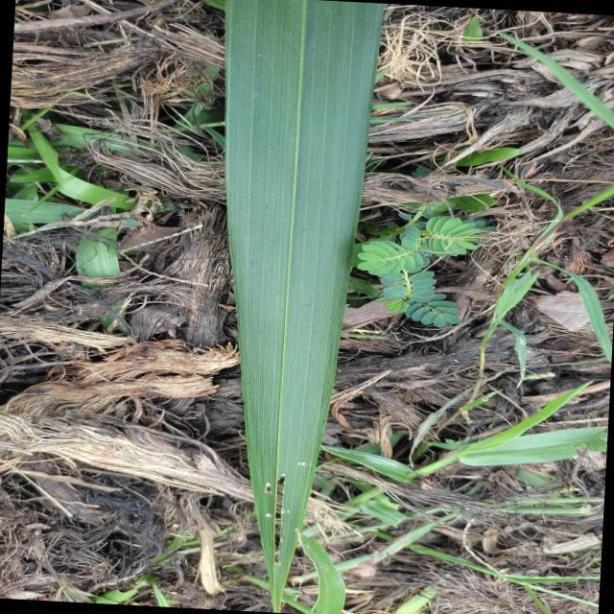Boron: (222, 0, 387, 614)
